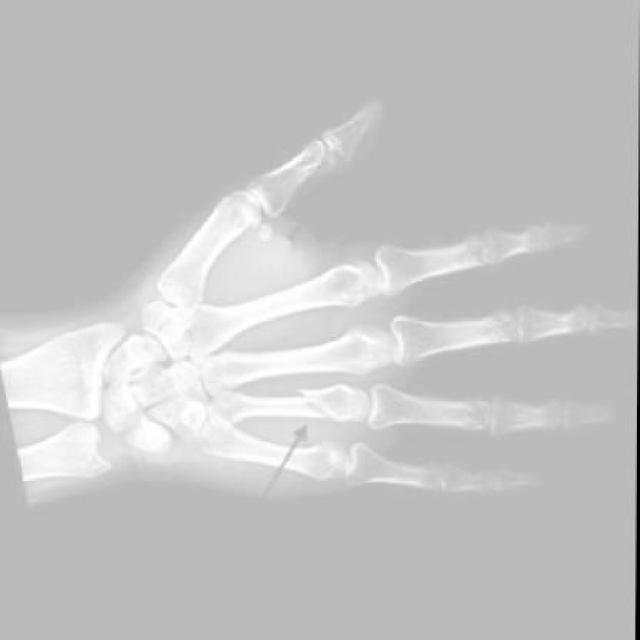Fracture: (294, 369, 352, 426)
